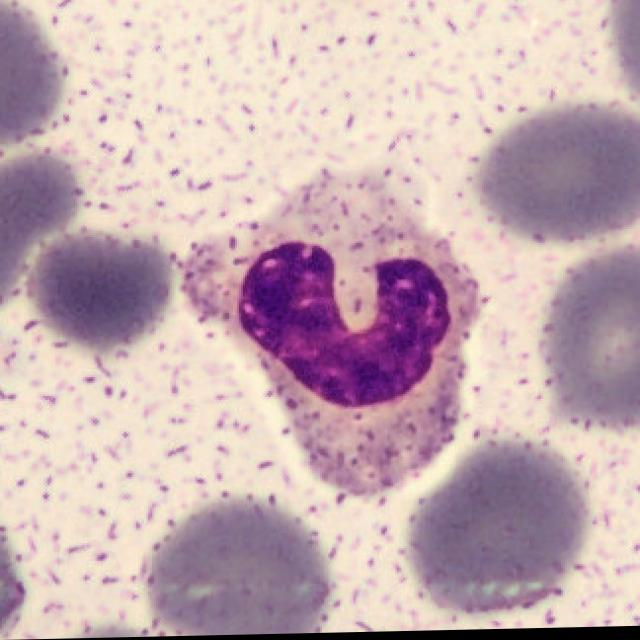Bastonete: (182, 177, 482, 498)
